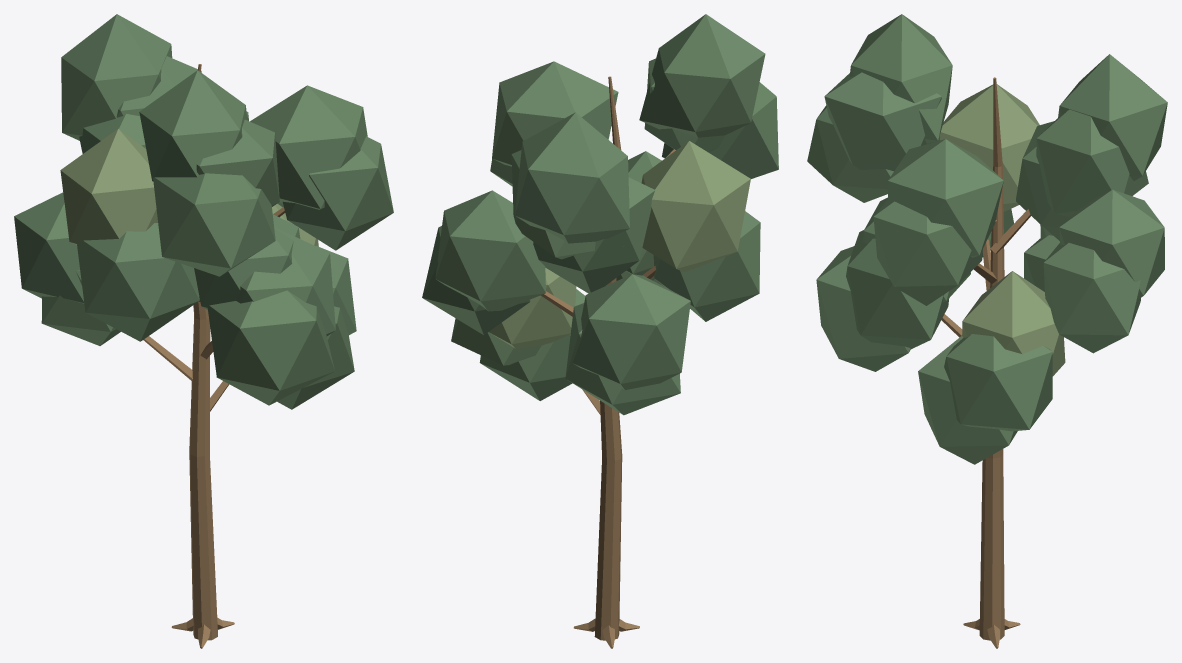
The model's file is oak_winter_light_02.glb.
3 views of the same model, side by side, from view 1: azimuth 30°, elevation 25°; view 2: azimuth 150°, elevation 25°; view 3: azimuth 270°, elevation 25° (orthographic). The views are drawn at different scales.
Visible parts, largest first — view 1: Oak_winter_light_02; view 2: Oak_winter_light_02; view 3: Oak_winter_light_02.
Boxes of the visible parts, box(x1,y1,x2,y2) form: Oak_winter_light_02: box(14, 14, 393, 648); Oak_winter_light_02: box(422, 14, 778, 648); Oak_winter_light_02: box(807, 14, 1167, 648).
Bounding box in the file's own units: 8.55 × 17.81 × 9.76.
